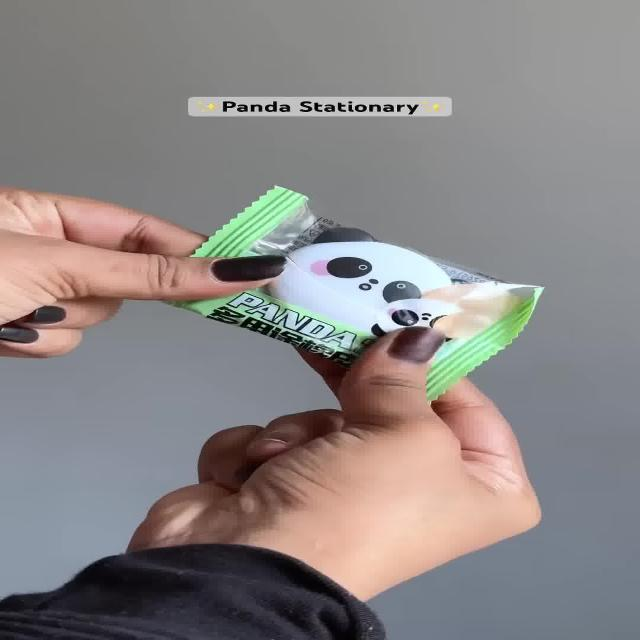chocolate: (136, 157, 569, 403)
